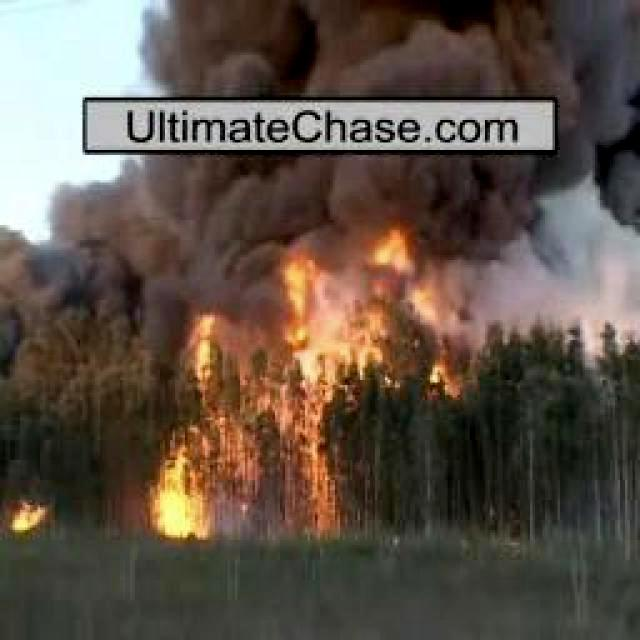fire: (268, 228, 434, 544), (148, 408, 214, 542), (15, 500, 43, 536)
